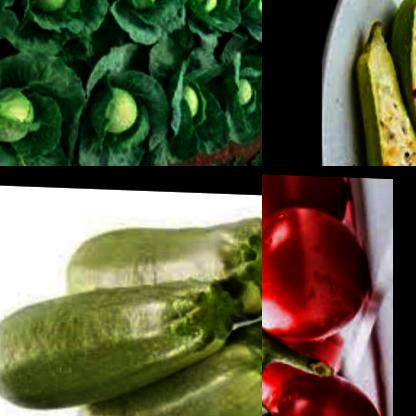cabbage: (91, 73, 146, 146), (0, 78, 42, 156), (171, 67, 220, 130), (232, 64, 262, 132), (190, 0, 239, 23), (31, 0, 88, 16), (118, 0, 168, 16), (241, 0, 262, 29)
tomato: (262, 202, 364, 333), (262, 288, 353, 389), (262, 370, 383, 416), (262, 171, 342, 227)
vegetable marrow: (0, 285, 242, 416), (68, 206, 262, 345), (47, 315, 262, 416), (364, 6, 416, 166)
